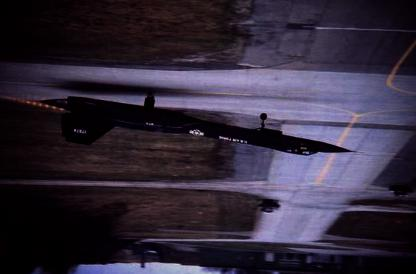Rafale: (40, 90, 366, 156)
